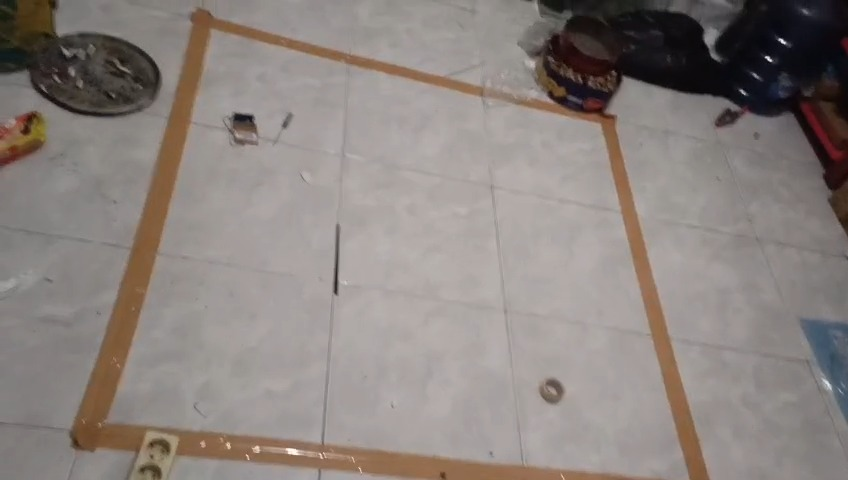floor marking: (72, 8, 649, 479), (491, 91, 708, 479)
